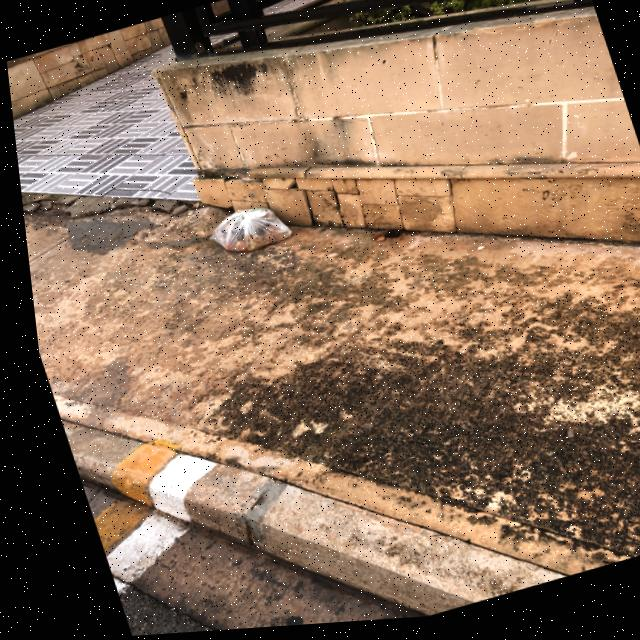Organic Waste -White Bag-: (191, 195, 300, 271)
